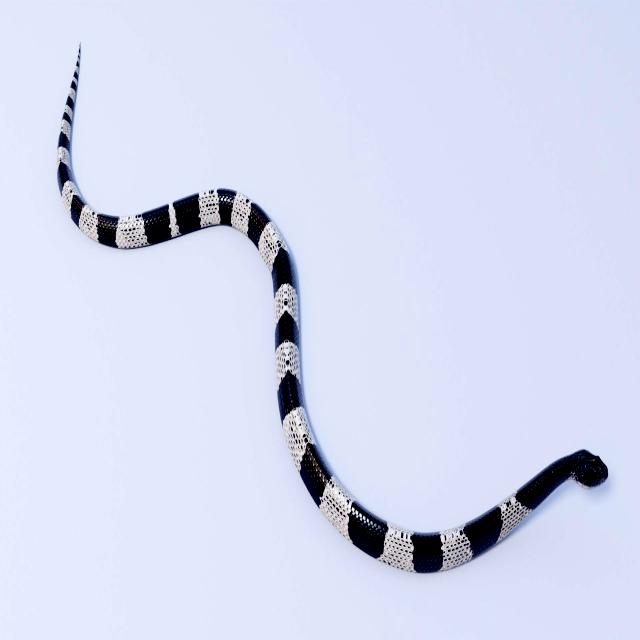Bungarus candidus: (57, 52, 607, 572)
snake: (57, 52, 607, 572)
